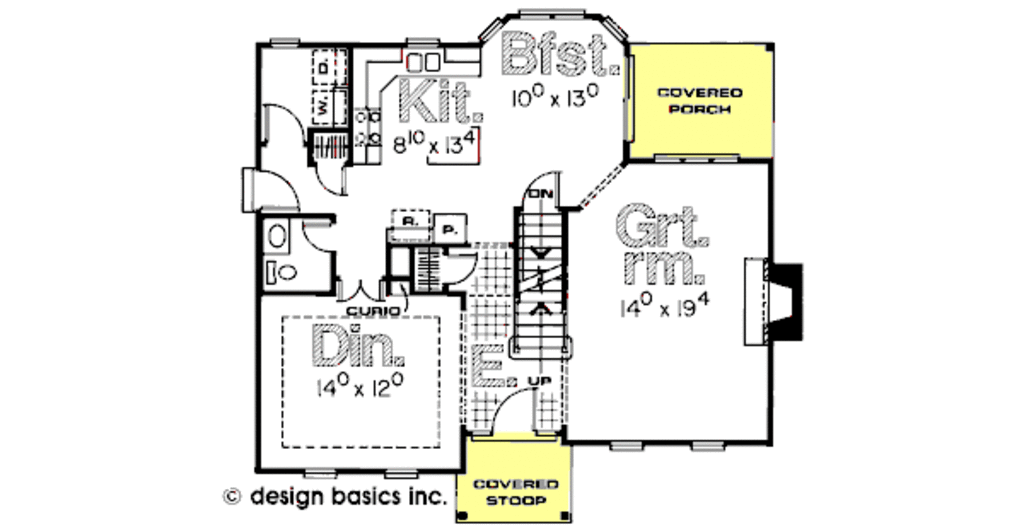door: (237, 163, 300, 216), (487, 383, 539, 435), (256, 102, 309, 151), (516, 168, 566, 209), (298, 219, 345, 260), (442, 246, 482, 294), (333, 274, 384, 310), (312, 162, 353, 203)
large_sink: (261, 250, 301, 291)
small_sink: (262, 215, 295, 257)
stairs: (508, 208, 578, 361)
twin_sink: (403, 50, 448, 82)
window: (475, 5, 636, 46), (645, 151, 745, 174), (604, 436, 649, 457), (381, 461, 420, 485), (680, 438, 728, 455), (298, 463, 340, 480), (267, 34, 305, 52)
